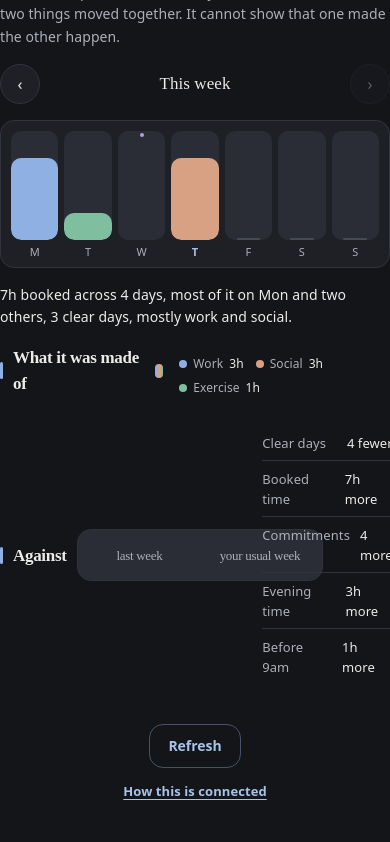
the connection panel › warns that turning titles off erases the ones already kept
The image size is (390, 842).
(page scrolled)
Step 1. Click the button "How this is connected" → click(195, 792), box [123,778,267,806]
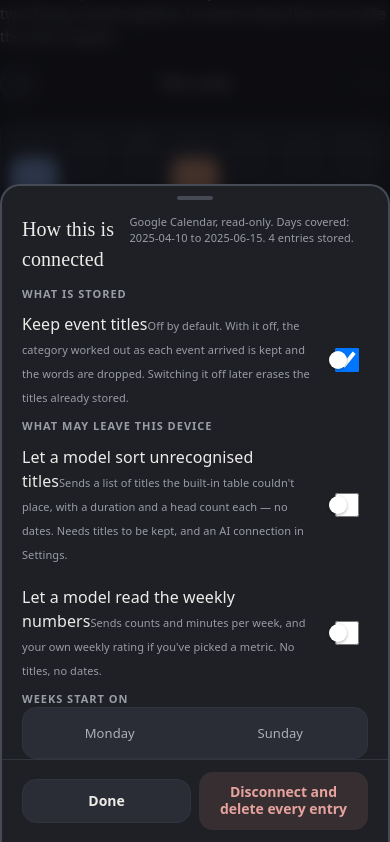
Result: the text "erases the titles already stored" is shown at [22,318,310,405]
